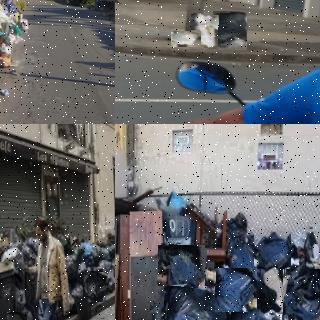Garbage: (164, 285, 231, 320), (157, 244, 206, 287), (282, 268, 320, 320), (216, 268, 257, 312), (254, 230, 291, 267), (213, 11, 247, 50), (190, 14, 219, 49), (84, 272, 108, 302), (171, 32, 201, 48), (6, 311, 26, 320)
